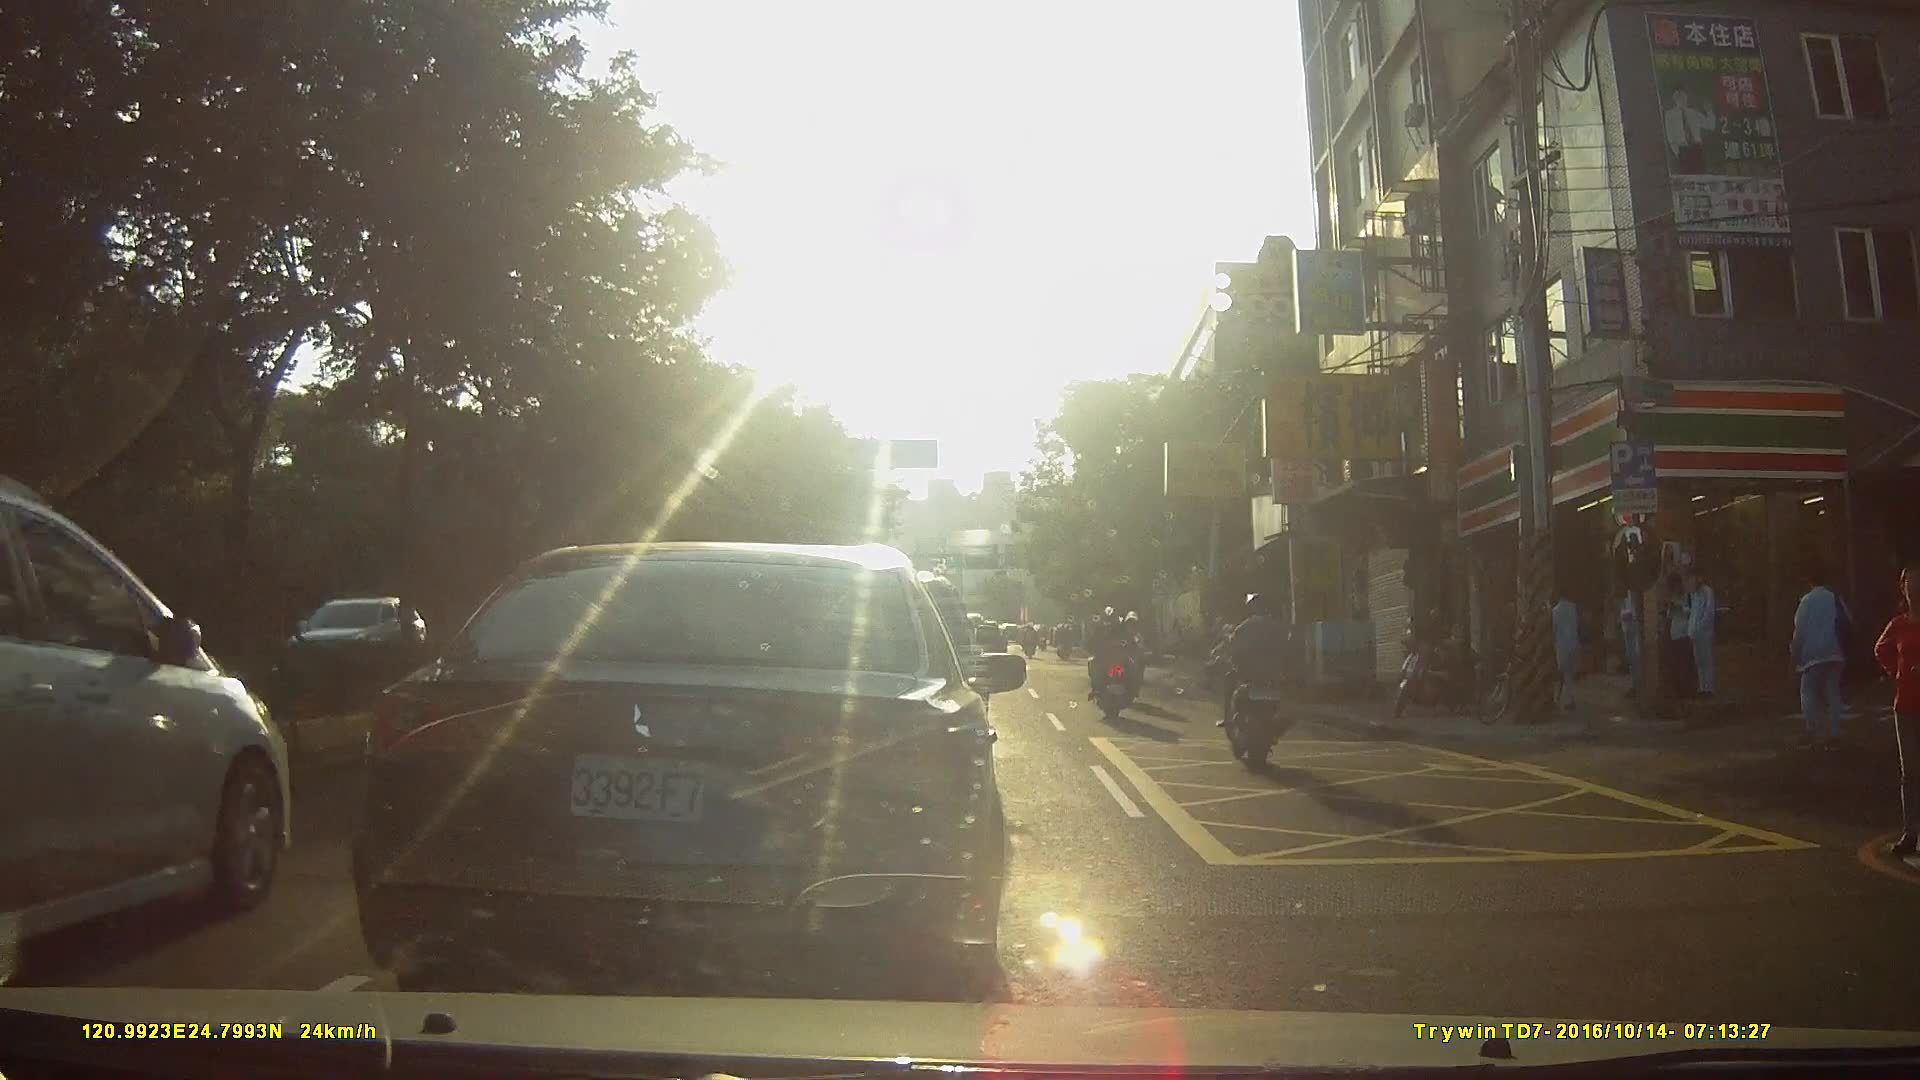pedestrian: (1782, 565, 1860, 759), (1873, 567, 1920, 854), (1533, 579, 1582, 715), (1672, 569, 1720, 699), (1614, 573, 1655, 708), (1662, 567, 1700, 711)
rider: (1222, 595, 1295, 765), (1087, 607, 1140, 720), (1054, 622, 1076, 664), (1021, 624, 1041, 663)
vehicle: (364, 542, 1036, 983), (1, 467, 343, 953), (285, 593, 433, 700)
